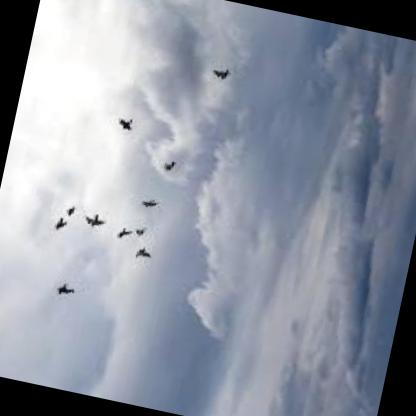bird: (203, 54, 242, 87), (112, 110, 142, 137), (78, 207, 110, 232), (51, 278, 80, 301), (136, 193, 163, 215), (129, 242, 157, 263), (110, 222, 135, 241)
